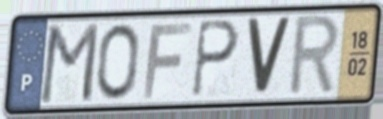F: (140, 20, 195, 102)
M: (36, 20, 101, 106)
O: (95, 21, 141, 102)
P: (190, 18, 241, 101)
R: (285, 12, 343, 101)
V: (244, 16, 294, 99)
